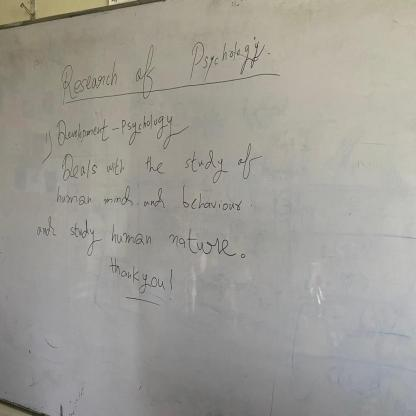Handwritten text: (47, 27, 272, 104), (28, 209, 238, 266), (52, 135, 257, 182), (45, 176, 250, 218), (48, 97, 186, 153), (104, 255, 171, 298)
Whiteboard: (0, 0, 416, 416)
